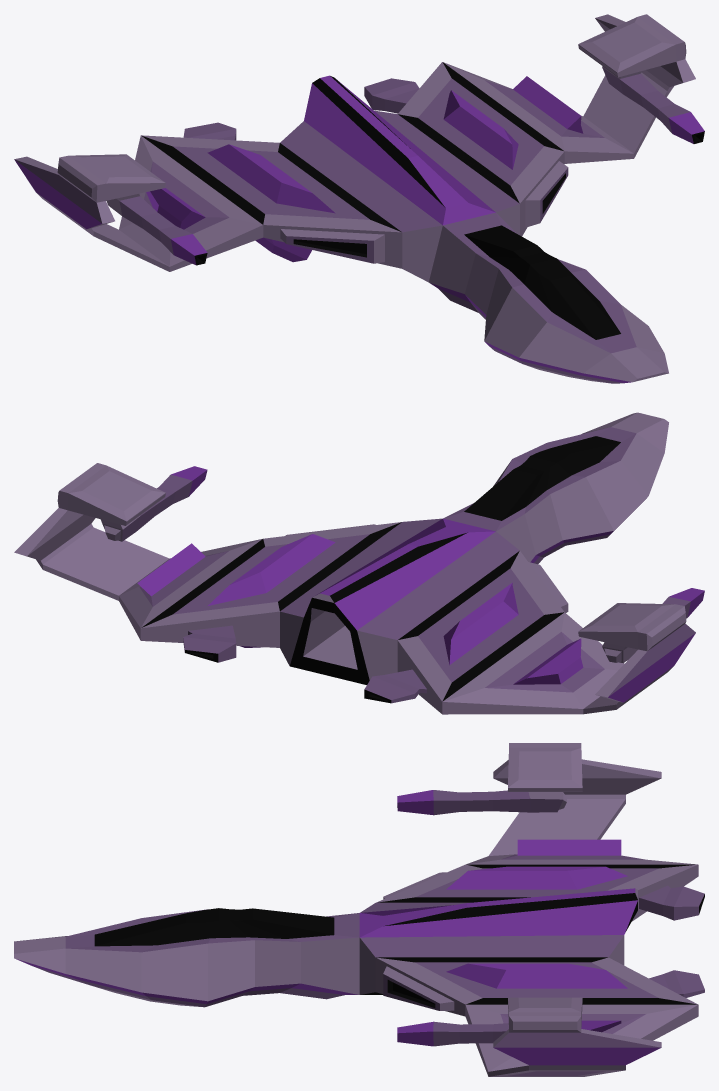
File: Spaceship.gltf
3 renders of one model, top to bottom at view 1: azimuth 30°, elevation 25°; view 2: azimuth 150°, elevation 25°; view 3: azimuth 270°, elevation 25°, orthographic. The views are drawn at different scales.
Parts seen in each view (by area): view 1: Cube; view 2: Cube; view 3: Cube.
Boxes of the visible parts, x1,y1,x2,y2 form: Cube: [14, 14, 704, 383]; Cube: [14, 412, 704, 714]; Cube: [14, 743, 704, 1076].
Size of the model in its own units: 14.6 by 2.83 by 15.43.
1 material, 1 textured.
